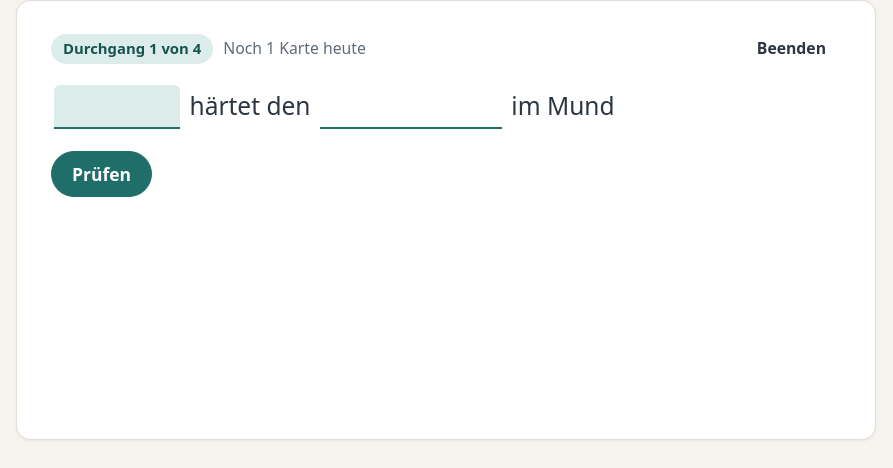
Test: review session › shows the verdict per gap right away and forgives a typo
In the field named "Deine Antwort für Lücke 1": {"x": 117, "y": 107} x1=54 y1=85 x2=180 y2=129, type "Dentin"
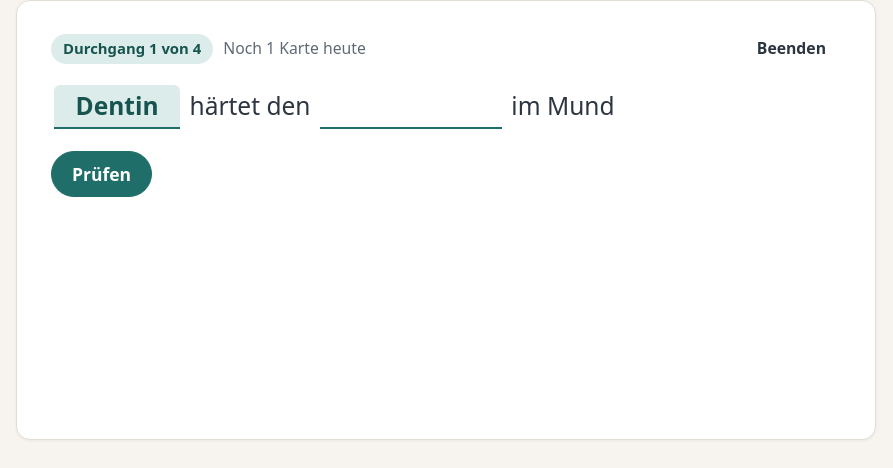
Click the field named "Deine Antwort für Lücke 2": {"x": 411, "y": 107} x1=320 y1=85 x2=502 y2=129
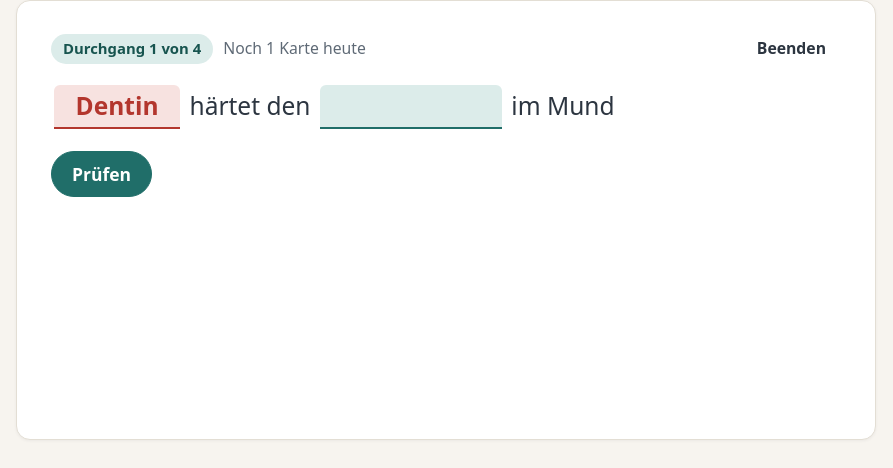
Replace the text in the field named "Deine Antwort für Lücke 1" with "Fluorit": {"x": 117, "y": 107} x1=54 y1=85 x2=180 y2=129
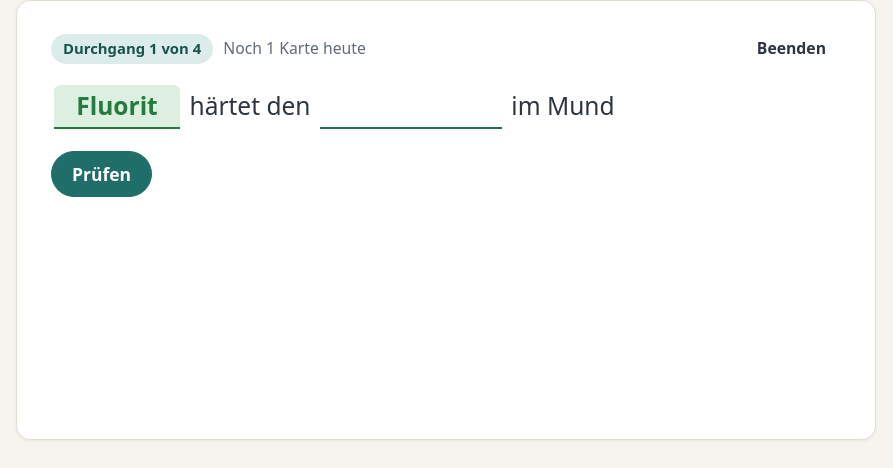
In the field named "Deine Antwort für Lücke 2": {"x": 411, "y": 107} x1=320 y1=85 x2=502 y2=129, type "Zahnschmeltz"
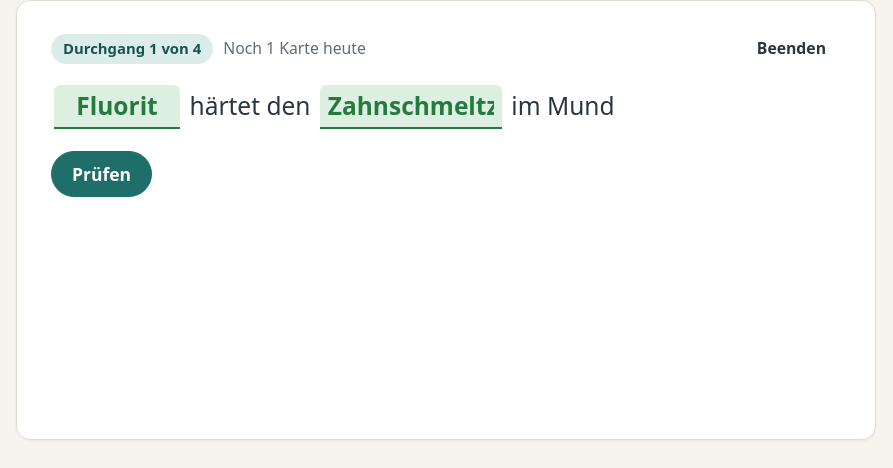
Click the button "Prüfen": {"x": 102, "y": 174} x1=51 y1=151 x2=152 y2=197
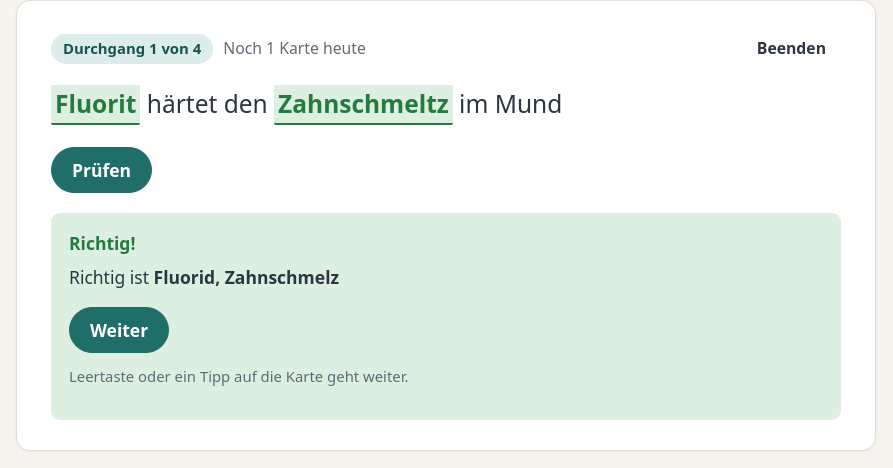
Expected: the text "Richtig!" is shown, x1=69 y1=231 x2=135 y2=255
